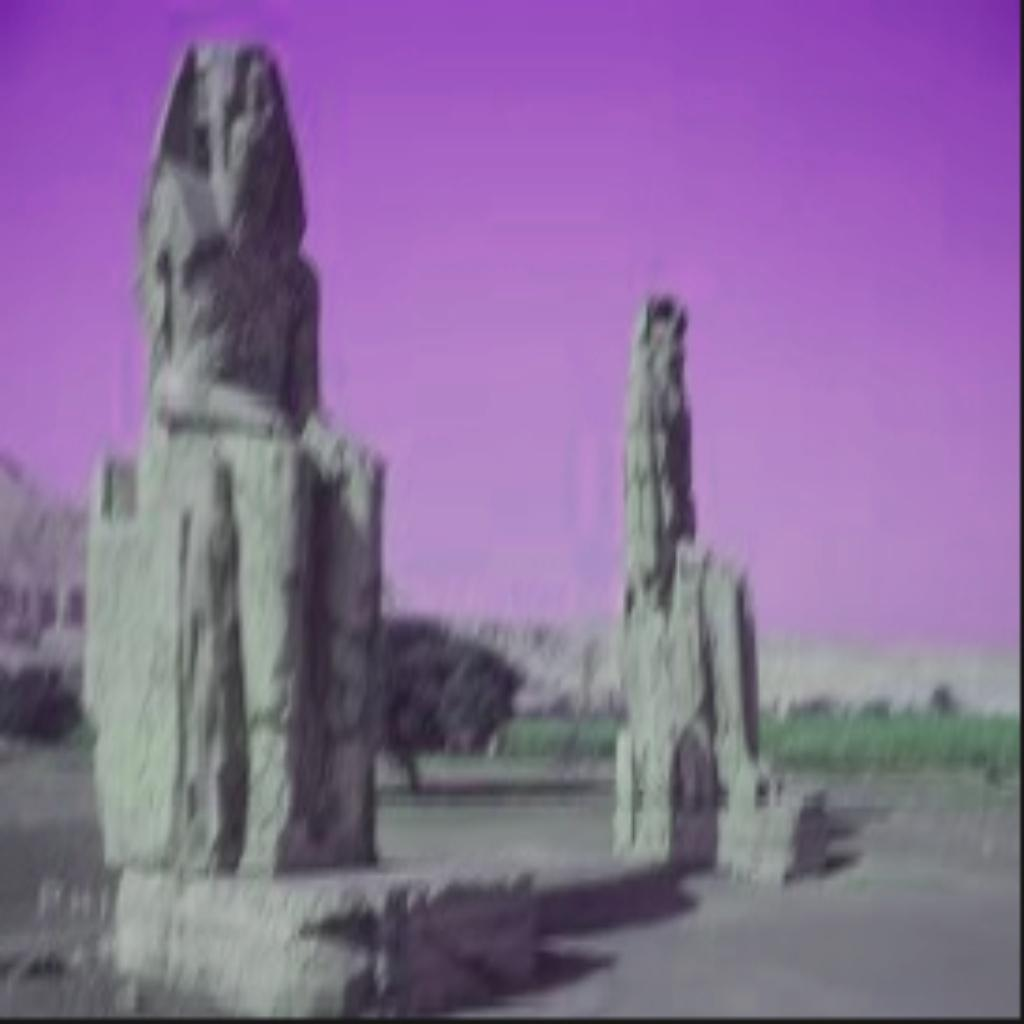Colossoi of Memnon: (78, 34, 396, 884), (610, 278, 834, 885)
